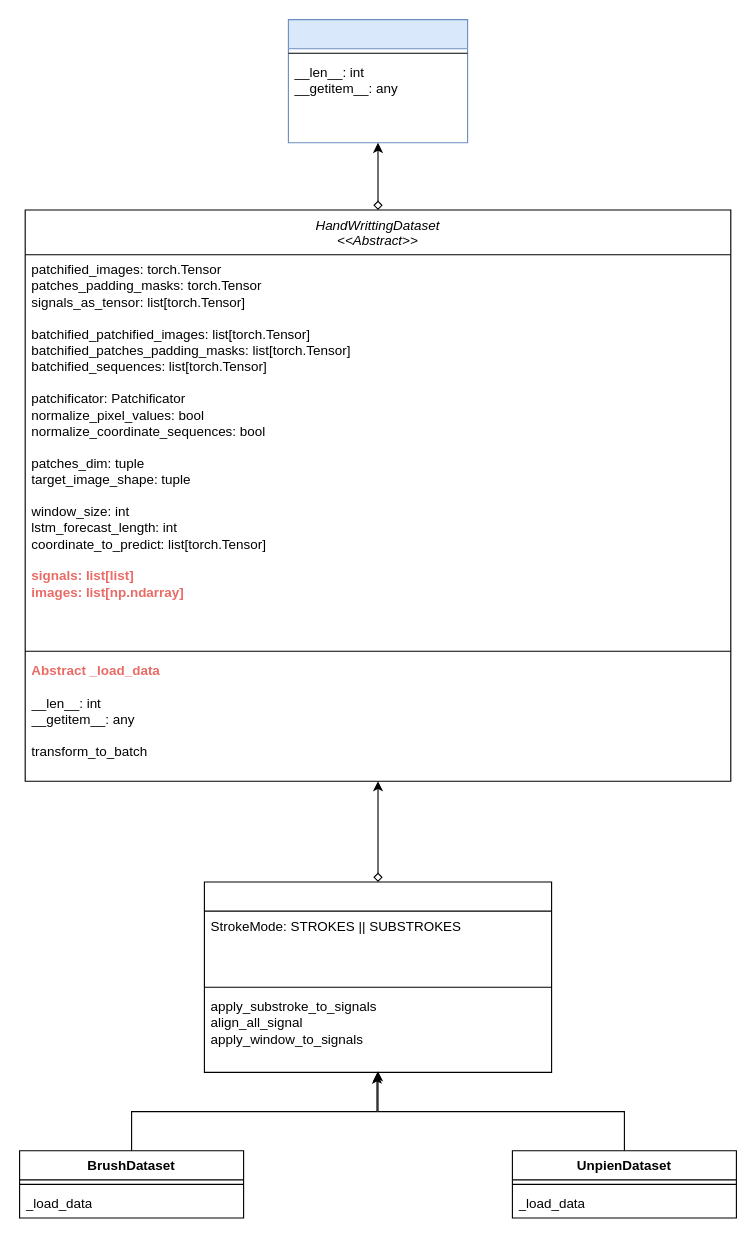
Some shapes in this 756 by 1241 pixel diagram are drawn without their labels. Here are the shapes that lost their labels. From the top down, the box of each, then its label:
(287, 18, 468, 143): Dataset
(203, 881, 552, 1072): StrokedHandwrittingDataset
